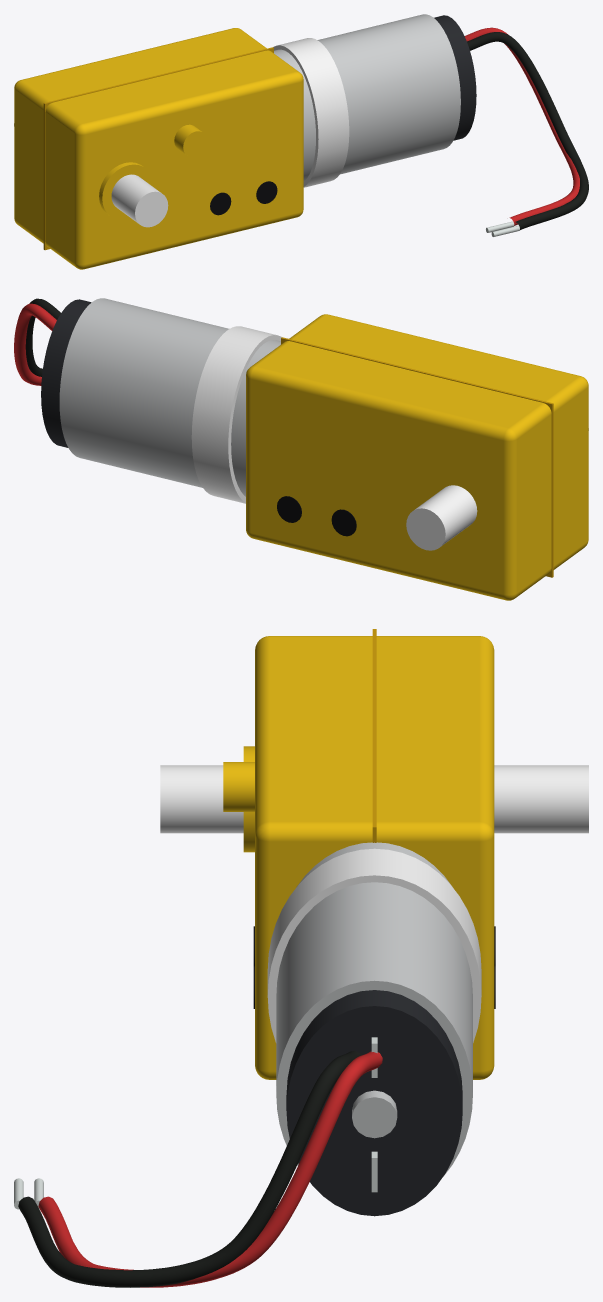
File: motor-dc-reductora.glb
The picture shows the model from 3 angles, top to bottom: view 1: azimuth 30°, elevation 25°; view 2: azimuth 150°, elevation 25°; view 3: azimuth 270°, elevation 25°; orthographic projection. The views are drawn at different scales.
Bounding box in the file's own units: 78.29 × 23.05 × 45.6.
Materials: 1 (1 with a texture image).
